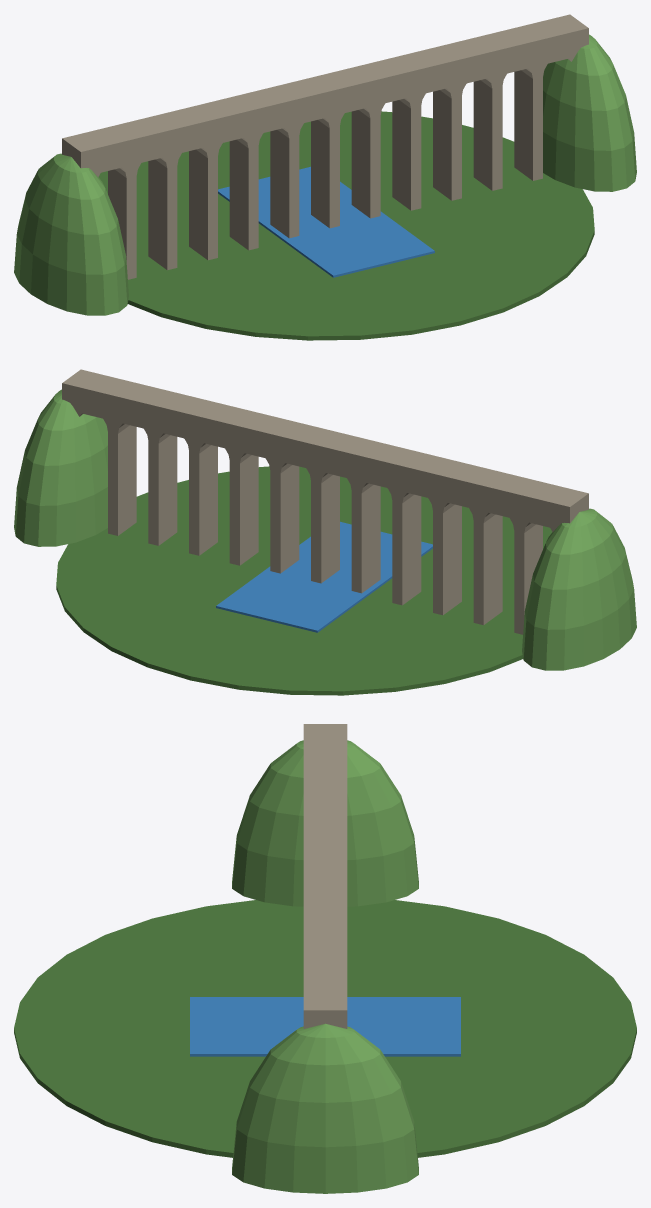
The model's file is viaduct.glb.
3 views of the same model, one above another, from view 1: azimuth 30°, elevation 25°; view 2: azimuth 150°, elevation 25°; view 3: azimuth 270°, elevation 25° (orthographic). The views are drawn at different scales.
Size of the model in its own units: 2.9 by 0.675 by 2.3.
